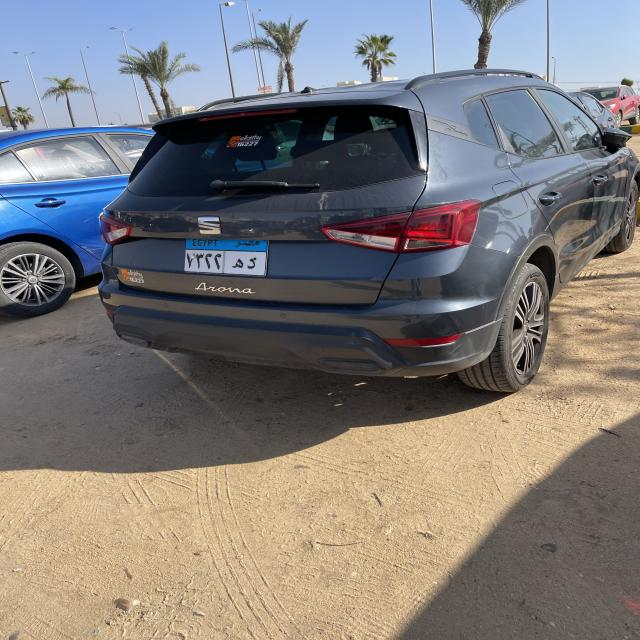License Plate: (184, 237, 269, 276)
